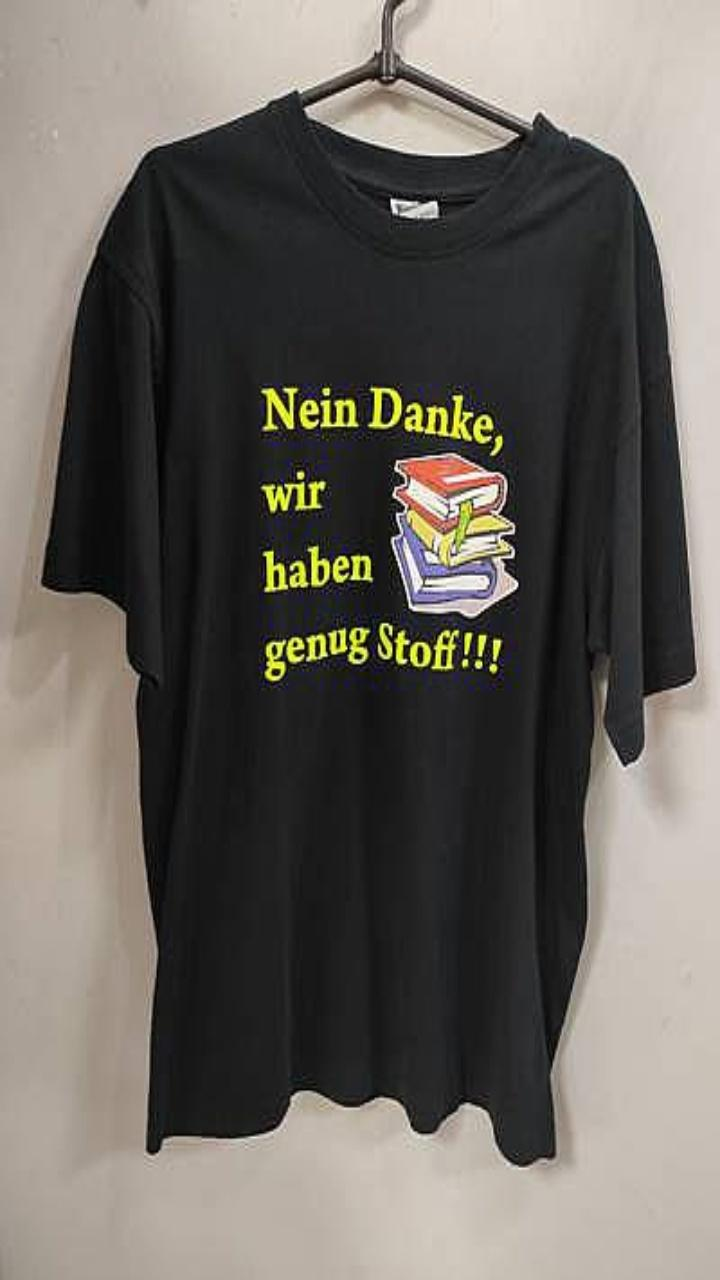T-Shirt: (42, 90, 694, 1163)
